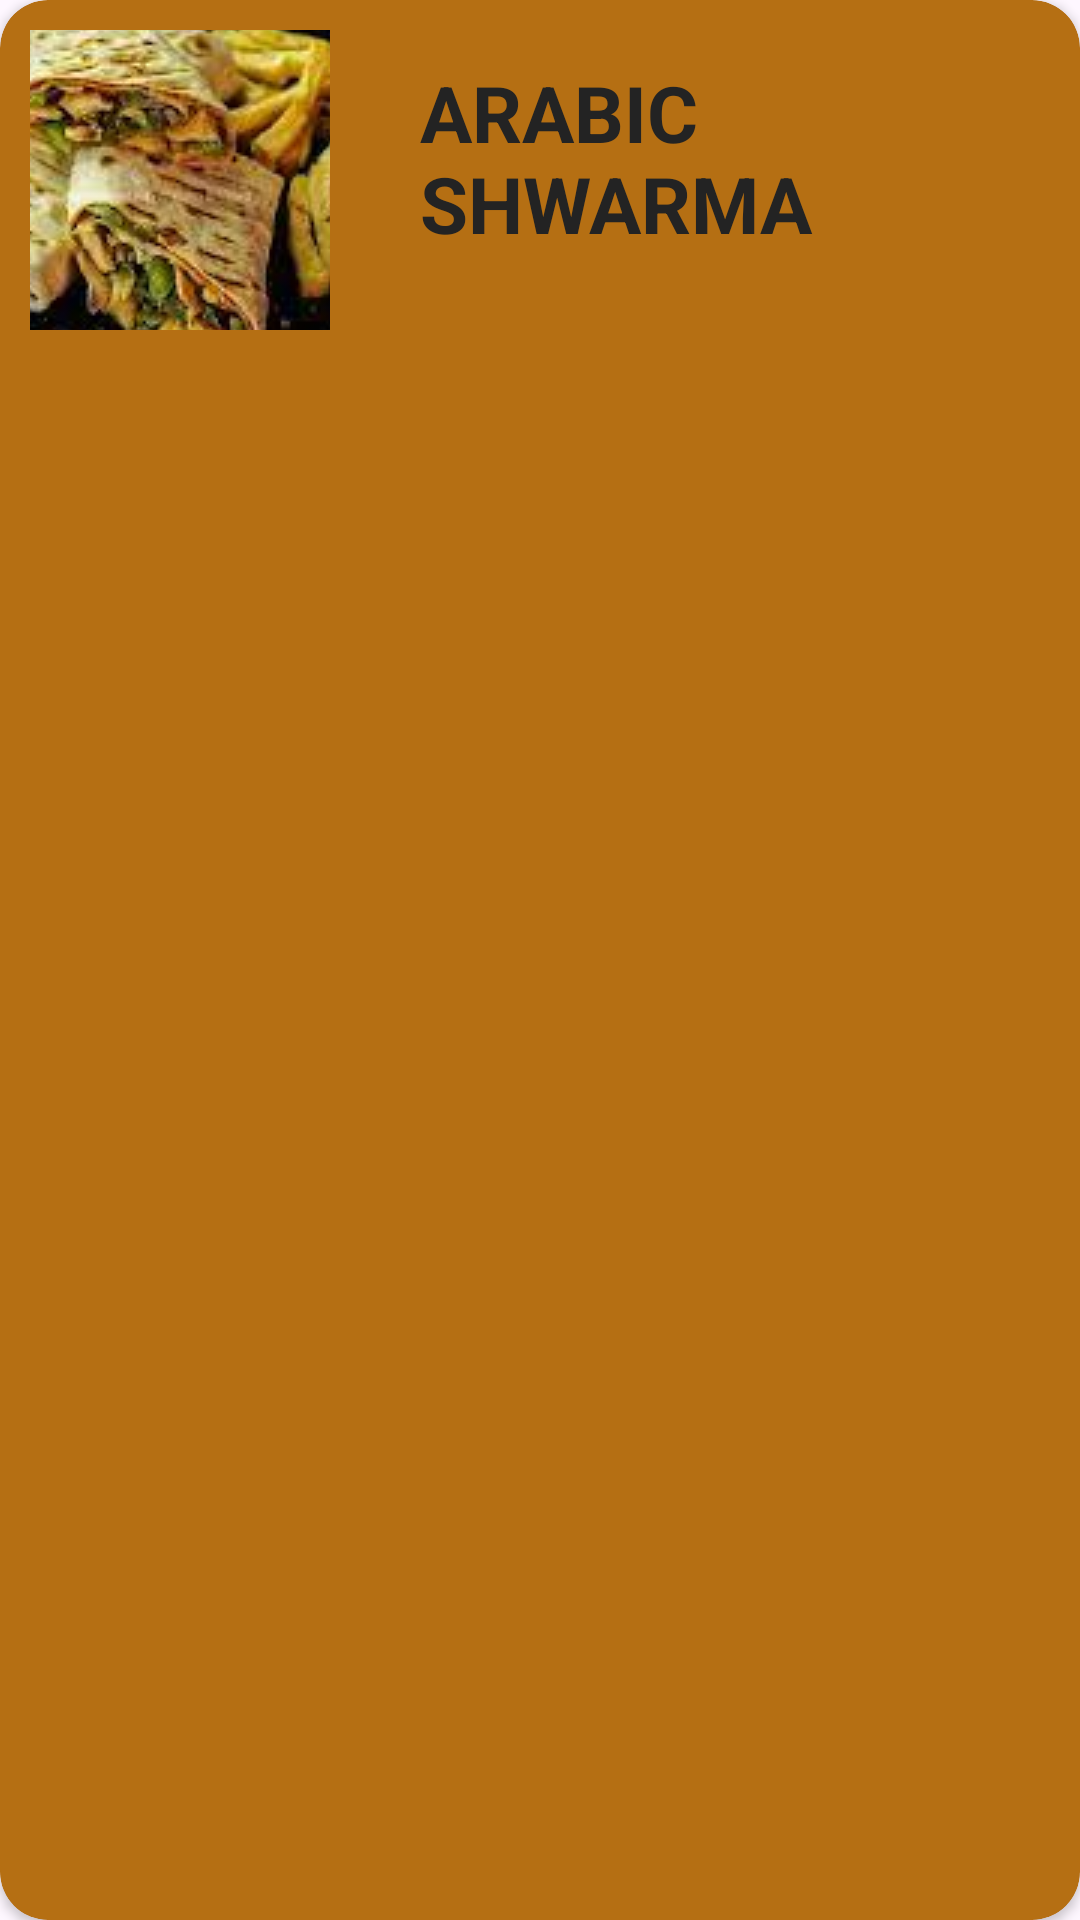

Point at icon controls on the screen. Image size 1080x1920, points as [x,y].
arabshawarma: [180,180]
